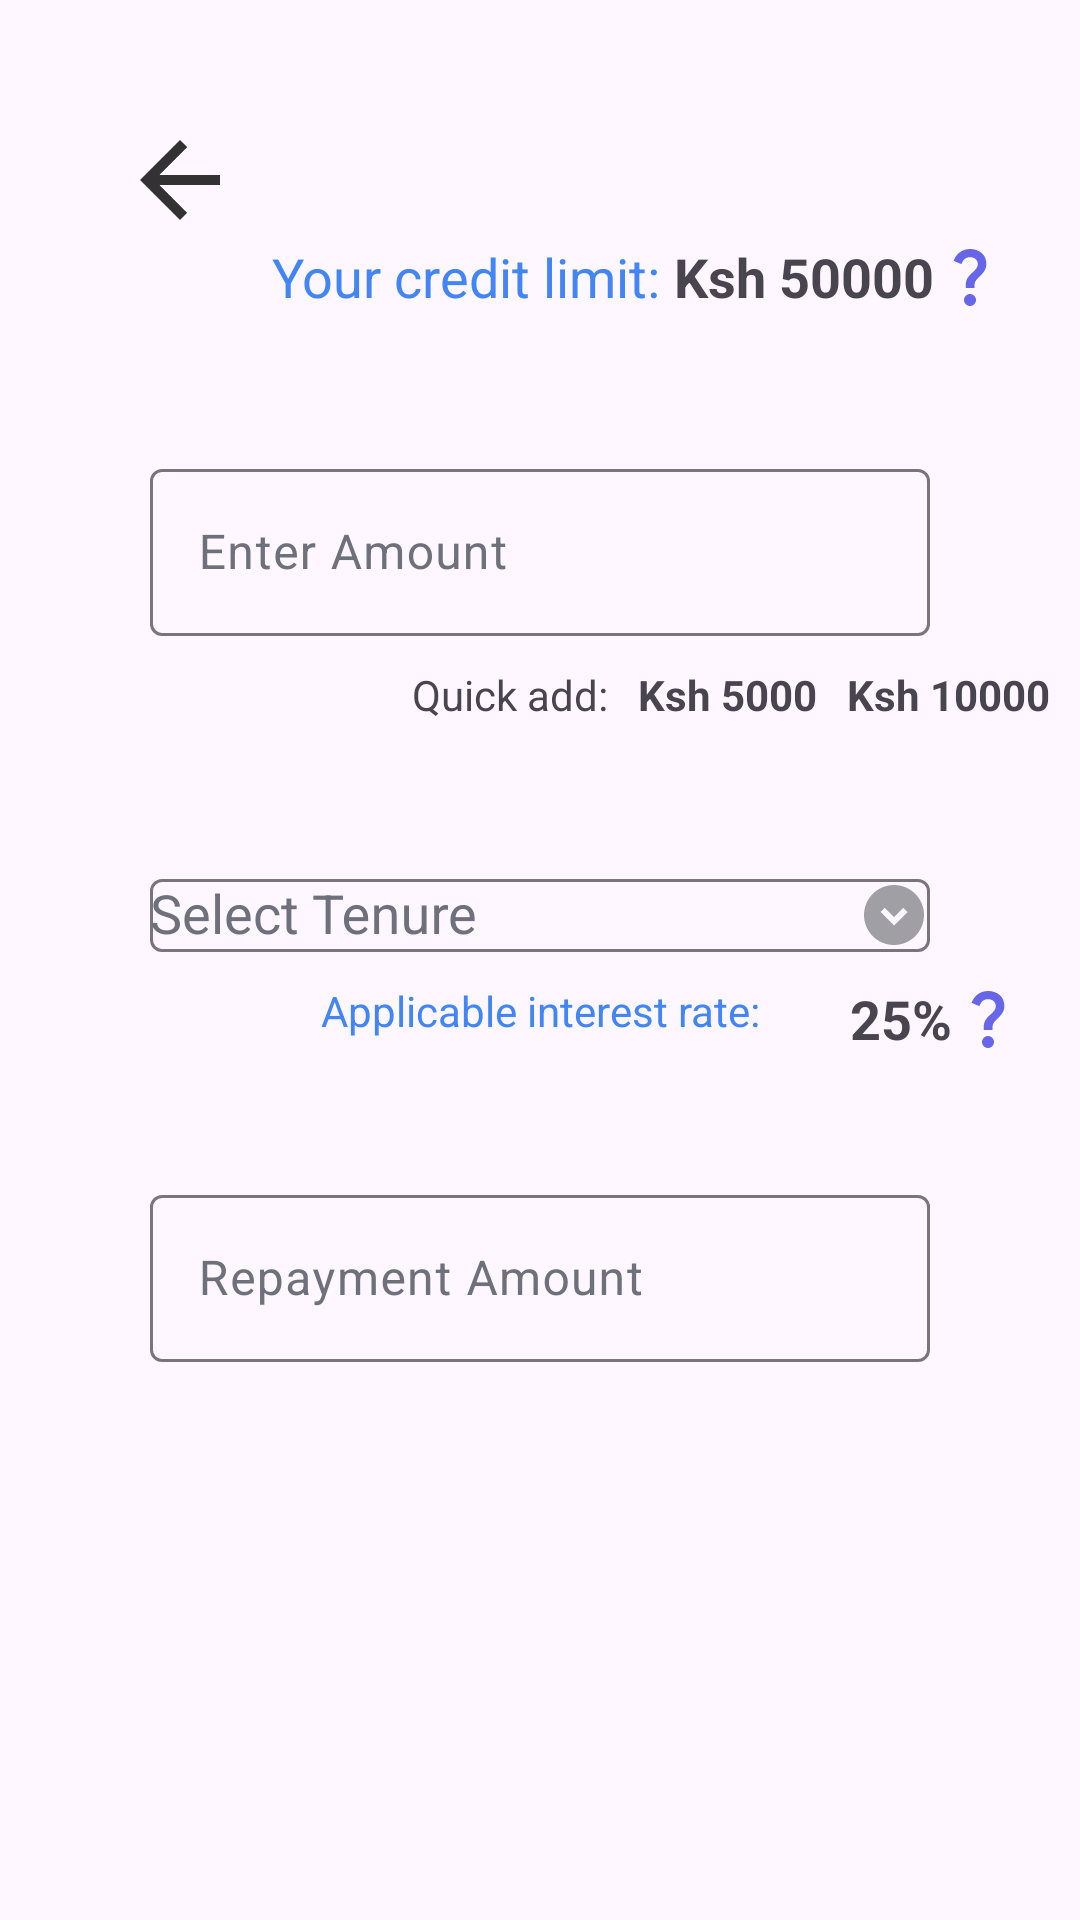

Screen size 1080*1920. Icon name, then its center in pixels as point (x, y):
back: point (180, 180)
